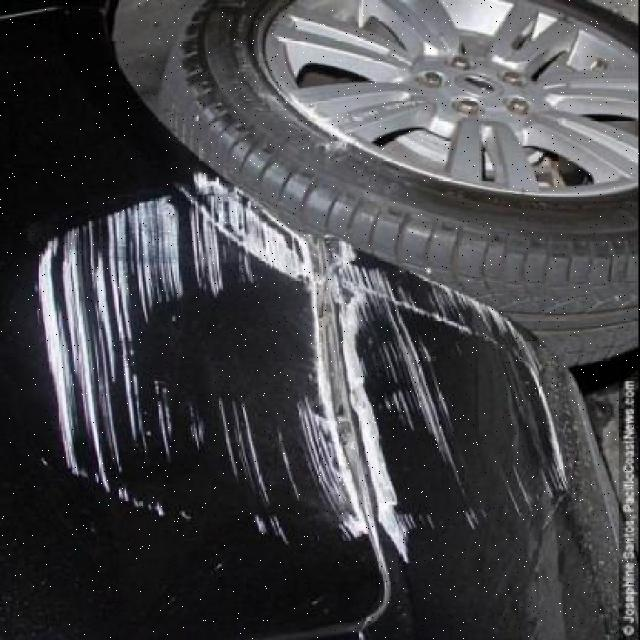damage: (38, 170, 369, 544), (338, 241, 571, 564)
